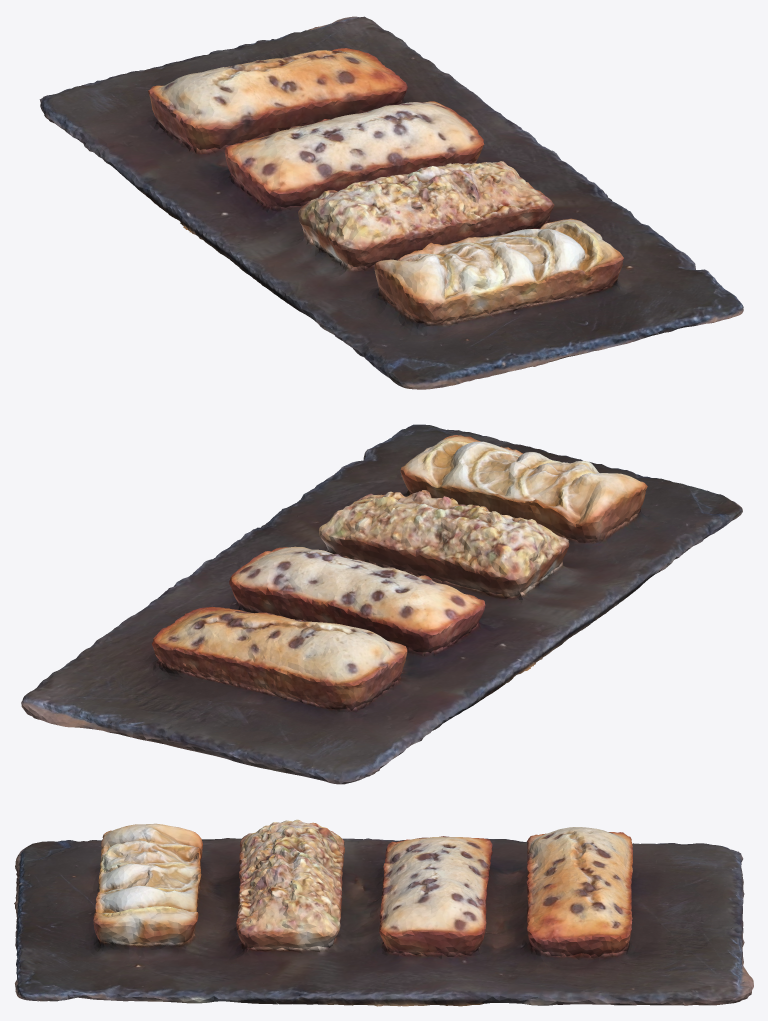
The model's file is 4 ta keik mostatili full 3.5).glb.
3 views of the same model, one above another, from view 1: azimuth 30°, elevation 25°; view 2: azimuth 150°, elevation 25°; view 3: azimuth 270°, elevation 25° (orthographic). The views are drawn at different scales.
Visible parts, largest first — view 1: object 1; view 2: object 1; view 3: object 1.
Part boxes in pixels (bbox=[...]): object 1: bbox=[39, 16, 743, 389]; object 1: bbox=[21, 424, 742, 784]; object 1: bbox=[14, 819, 753, 1006].
Size of the model in its own units: 0.1849 by 0.0383 by 0.3623.
2 materials, 1 textured.
